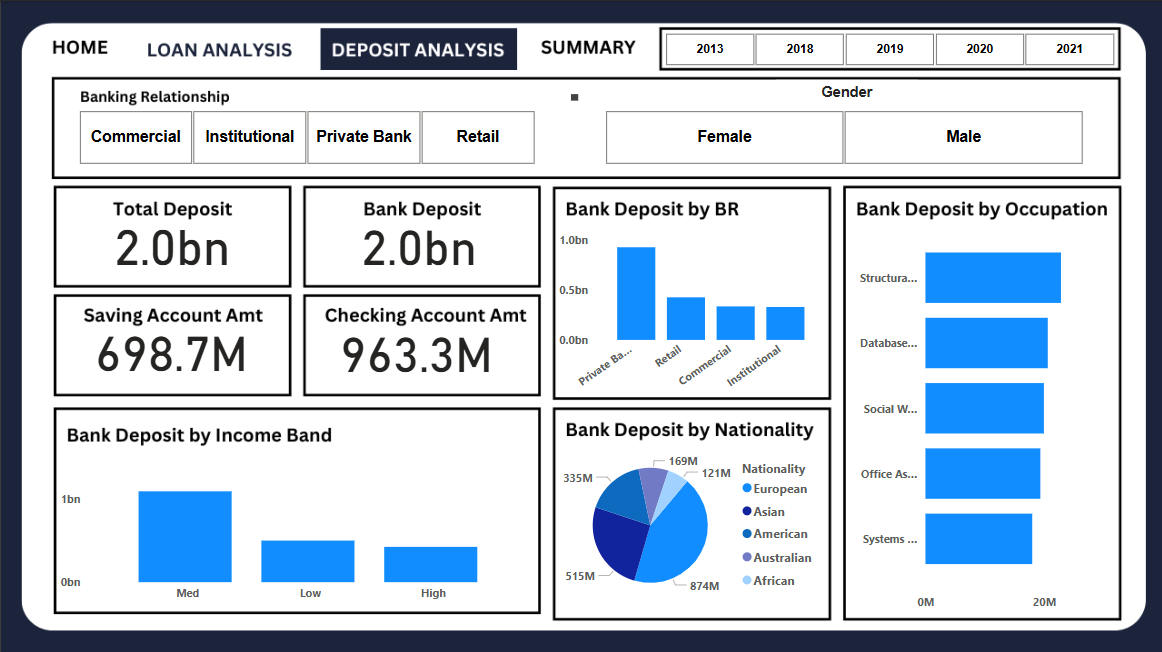

What the dashboard file says about the page in this screenshot:
{"tool":"powerbi","page":{"name":"Deposit Analysis","canvas":[1280,720],"ordinal":2},"visuals":[{"type":"card","fields":{"Values":["Sum(Banking.Bank Deposits)"]},"box":[75.5,226.4,225,75.5],"z":0},{"type":"columnChart","fields":{"Y":["Sum(Banking.Bank Deposits)"],"Category":["Banking.BRId"]},"box":[608.6,249.4,303.6,188.2],"z":1000},{"type":"pieChart","fields":{"Y":["Sum(Banking.Bank Deposits)"],"Category":["Banking.Nationality"]},"box":[608.6,474.7,303.6,205.3],"z":2000},{"type":"barChart","fields":{"Category":["Banking.Occupation"],"Y":["Sum(Banking.Bank Deposits)"]},"box":[928.6,235.7,302.9,444.3],"z":3000},{"type":"columnChart","fields":{"Y":["Sum(Banking.Bank Deposits)"],"Category":["Banking.Income Band"]},"box":[60,488.6,528.6,181.4],"z":4000},{"type":"card","fields":{"Values":["Sum(Banking.Saving Accounts)"]},"box":[75.7,322.9,224.3,115.7],"z":5000},{"type":"card","fields":{"Values":["Sum(Banking.Checking Accounts)"]},"box":[345.7,324.3,224.3,115.7],"z":6000},{"type":"slicer","fields":{"Values":["Banking.Year"]},"box":[705.7,28.6,542.9,48.6],"z":7000},{"type":"slicer","fields":{"Values":["Banking.BRId"]},"box":[60,114.3,550,71.4],"z":8000},{"type":"textbox","box":[485.7,97.1,154.3,17.1],"z":9000},{"type":"textbox","box":[852.9,87.1,155.7,35.7],"z":10000},{"type":"slicer","fields":{"Values":["Banking.GenderId"]},"box":[640,114.3,574.3,71.4],"z":11000},{"type":"actionButton","box":[38.6,32.9,100,40],"z":12000},{"type":"actionButton","box":[148.6,32.9,187.1,40],"z":13000},{"type":"card","fields":{"Values":["Sum(Banking.Depo After fee)"]},"box":[342.9,215.7,235.7,97.1],"z":14000},{"type":"actionButton","box":[578.6,28.6,144.3,44.3],"z":15000}]}

Visuals, with their boxes in screenshot pixels (x1, y1, x2, y2), scaled from the page's 1280x720 canvas onto the 1162x652 screenshot:
card - Sum(Banking.Bank Deposits): l=69, t=205, r=273, b=273
columnChart - Sum(Banking.Bank Deposits) x Banking.BRId: l=552, t=226, r=828, b=396
pieChart - Sum(Banking.Bank Deposits) x Banking.Nationality: l=552, t=430, r=828, b=616
barChart - Banking.Occupation x Sum(Banking.Bank Deposits): l=843, t=213, r=1118, b=616
columnChart - Sum(Banking.Bank Deposits) x Banking.Income Band: l=54, t=442, r=534, b=607
card - Sum(Banking.Saving Accounts): l=69, t=292, r=272, b=397
card - Sum(Banking.Checking Accounts): l=314, t=294, r=517, b=398
slicer - Banking.Year: l=641, t=26, r=1133, b=70
slicer - Banking.BRId: l=54, t=104, r=554, b=168
textbox: l=441, t=88, r=581, b=103
textbox: l=774, t=79, r=916, b=111
slicer - Banking.GenderId: l=581, t=104, r=1102, b=168
actionButton: l=35, t=30, r=126, b=66
actionButton: l=135, t=30, r=305, b=66
card - Sum(Banking.Depo After fee): l=311, t=195, r=525, b=283
actionButton: l=525, t=26, r=656, b=66
